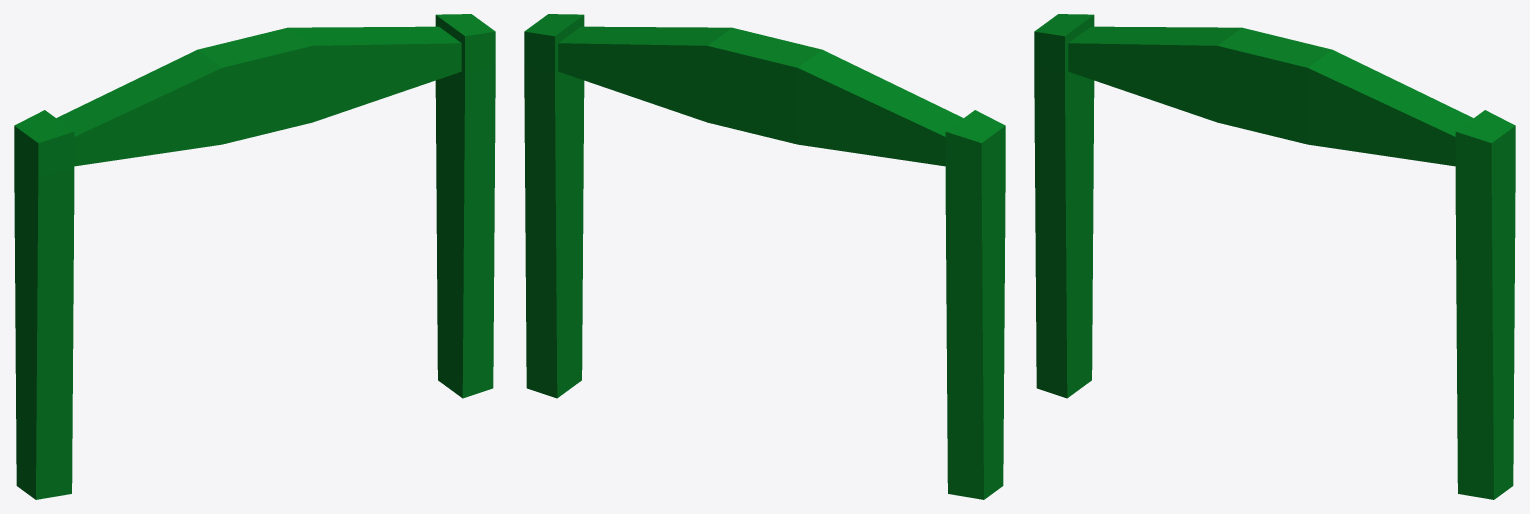
The model's file is door.obj.
3 views of the same model, side by side, from view 1: azimuth 30°, elevation 25°; view 2: azimuth 150°, elevation 25°; view 3: azimuth 330°, elevation 25° (orthographic).
Visible parts, largest first — view 1: 立方体_立方体.002; view 2: 立方体_立方体.002; view 3: 立方体_立方体.002.
Part boxes in pixels (x1,y1,x2,y2): 立方体_立方体.002: (14, 14, 495, 499); 立方体_立方体.002: (524, 14, 1005, 499); 立方体_立方体.002: (1034, 14, 1515, 499).
Size of the model in its own units: 2 by 1.63 by 0.2244.
1 material, 1 textured.
